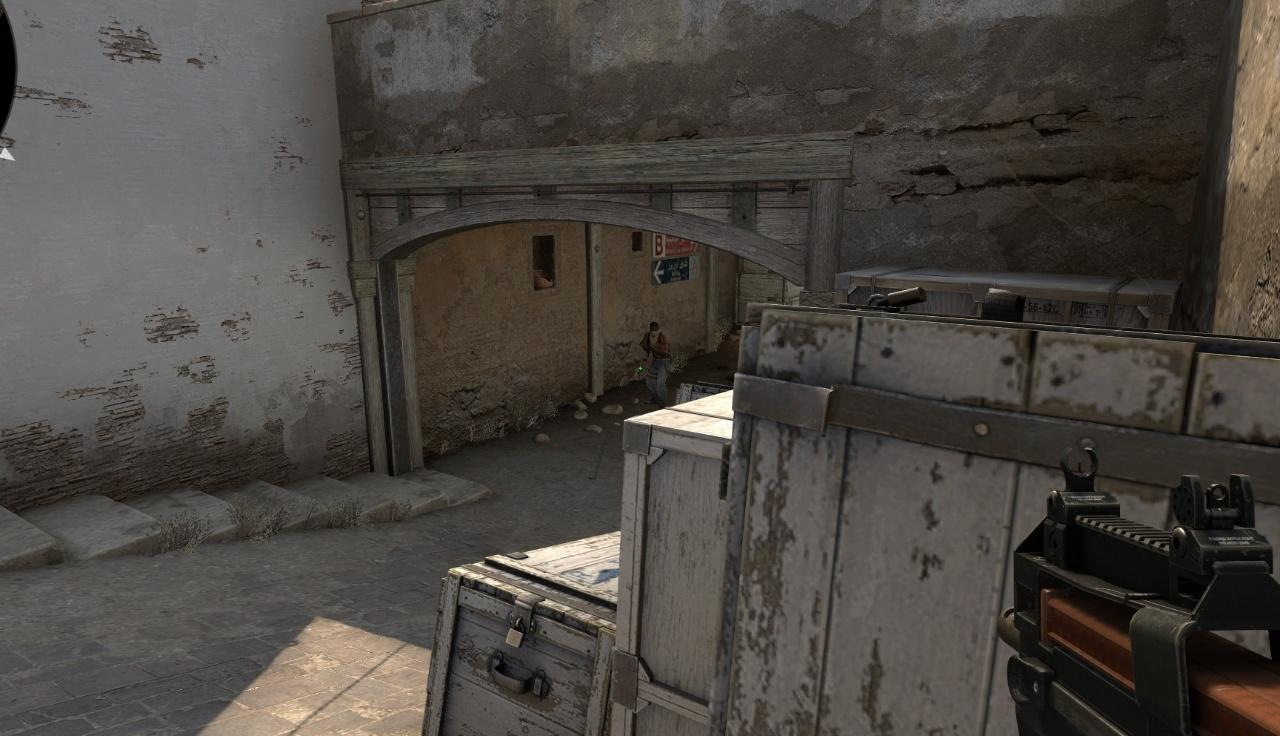rifle: (995, 449, 1280, 736)
tt: (639, 322, 670, 411)
tthead: (650, 322, 659, 336)
